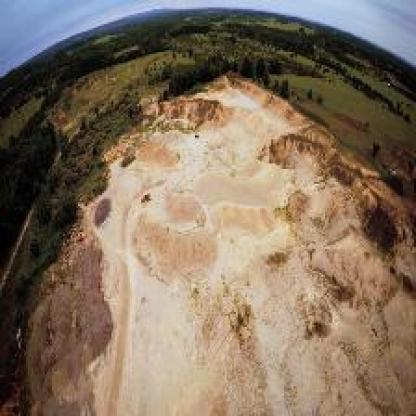other: (104, 101, 403, 389)
